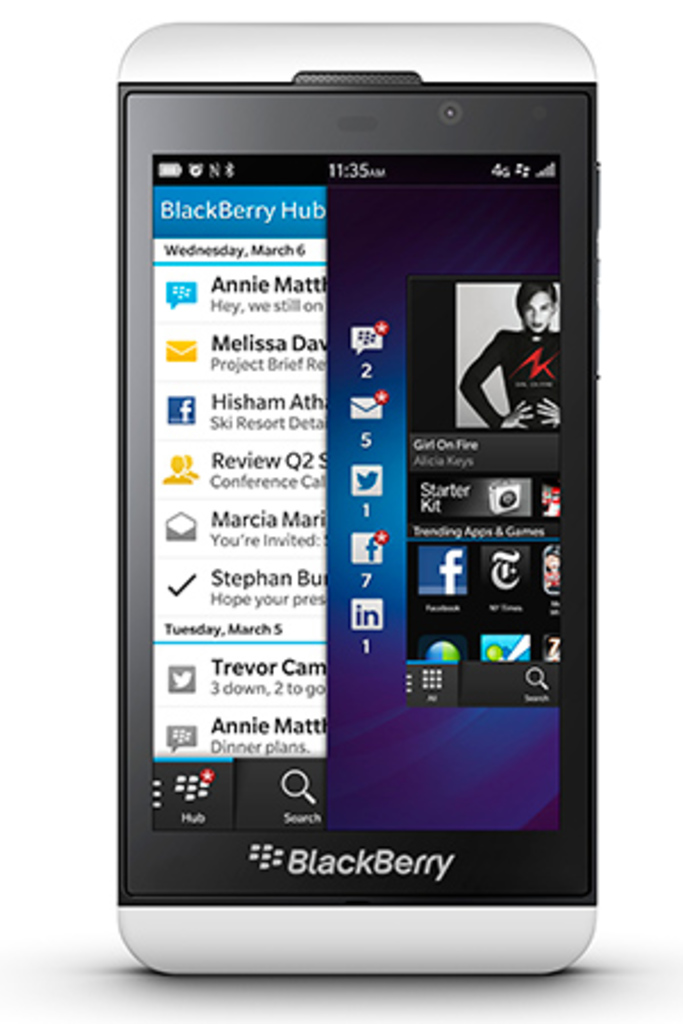Mobile-phone: (116, 18, 596, 983)
